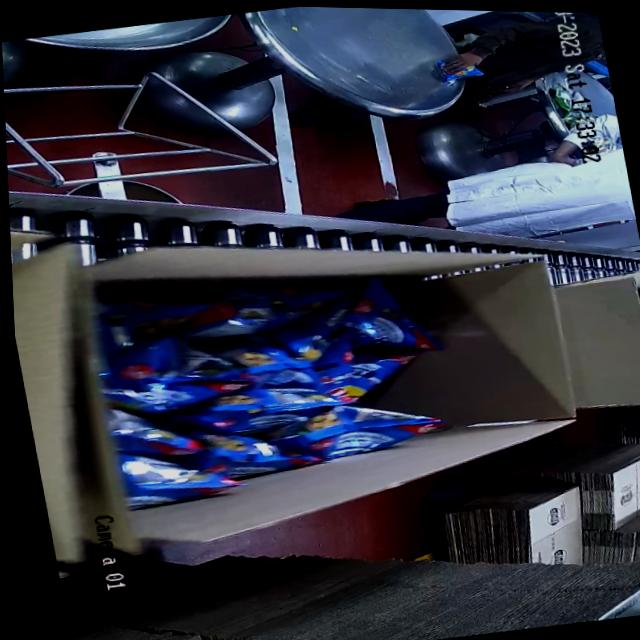PAPRIKA: (84, 258, 463, 508)
